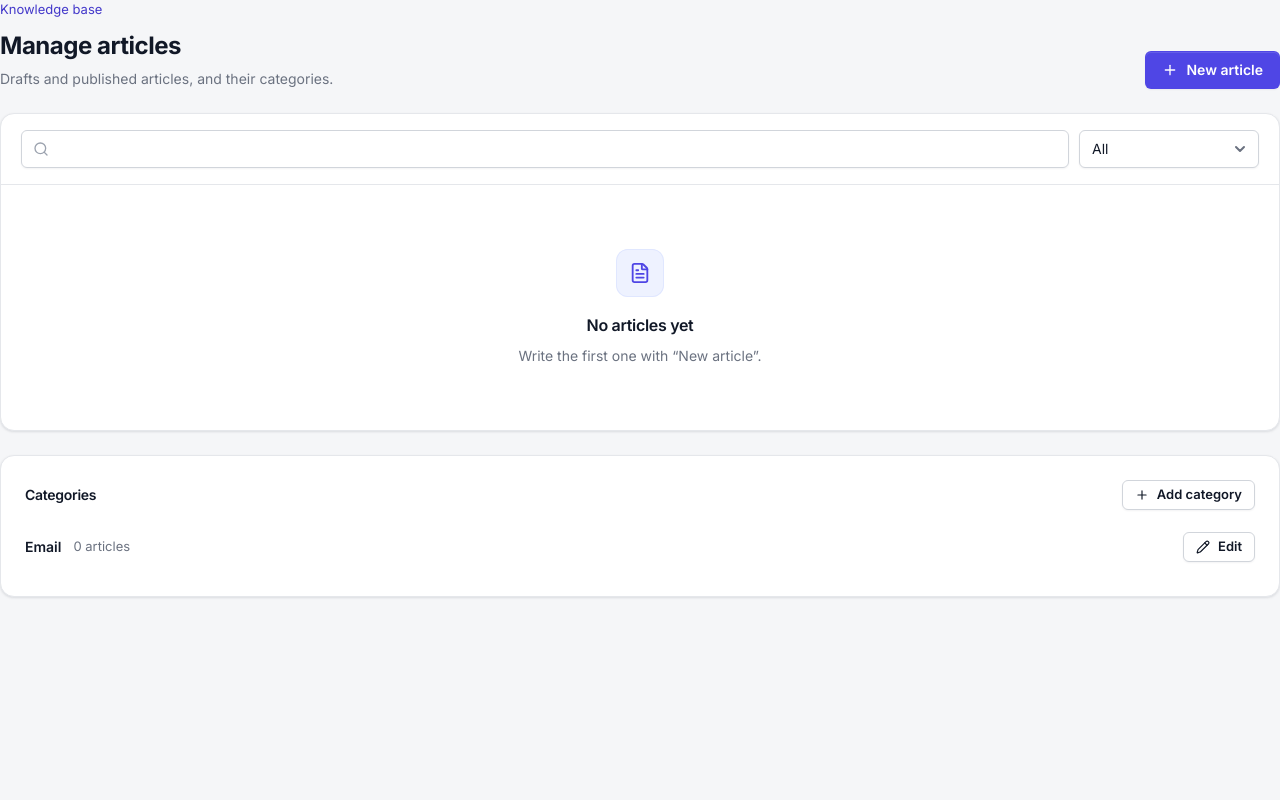
Test: categories › staff edit a category
Click the button with aria-label "Edit Email" at (1219, 546), box x1=1183 y1=532 x2=1255 y2=562
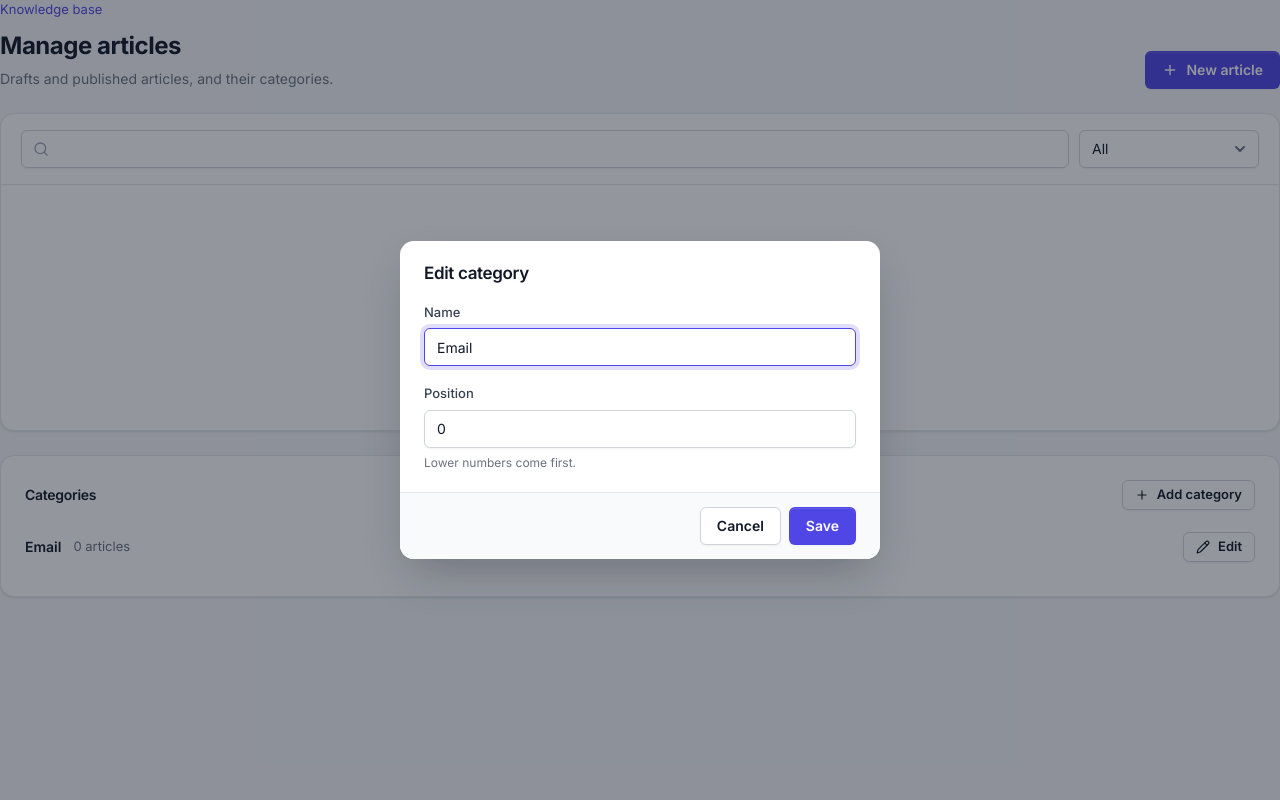
Replace the text in the field labelled "Name" with "Email & Calendar" at (640, 347), box x1=424 y1=328 x2=856 y2=366
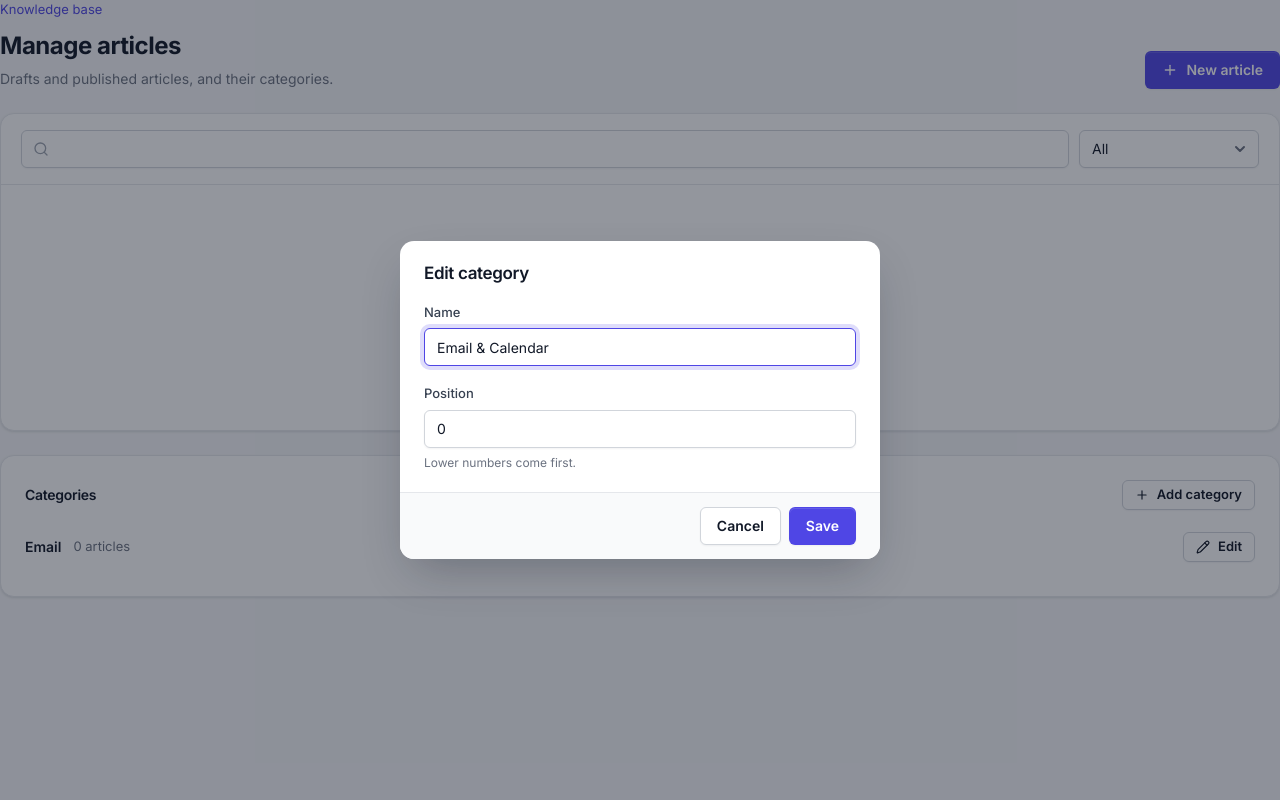
Click the button "Save" at (822, 526), box x1=789 y1=507 x2=856 y2=545
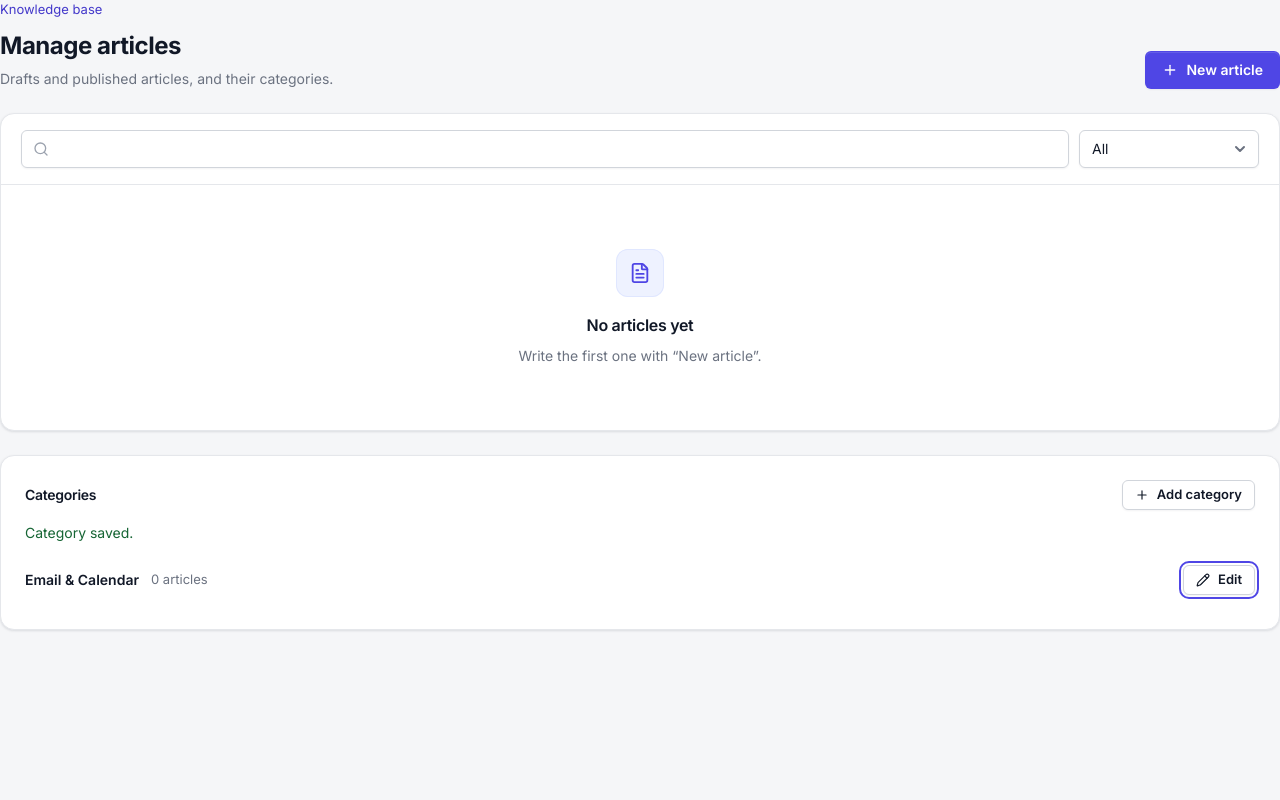
expect the text "Email & Calendar" is shown: met, box x1=25 y1=569 x2=139 y2=590
